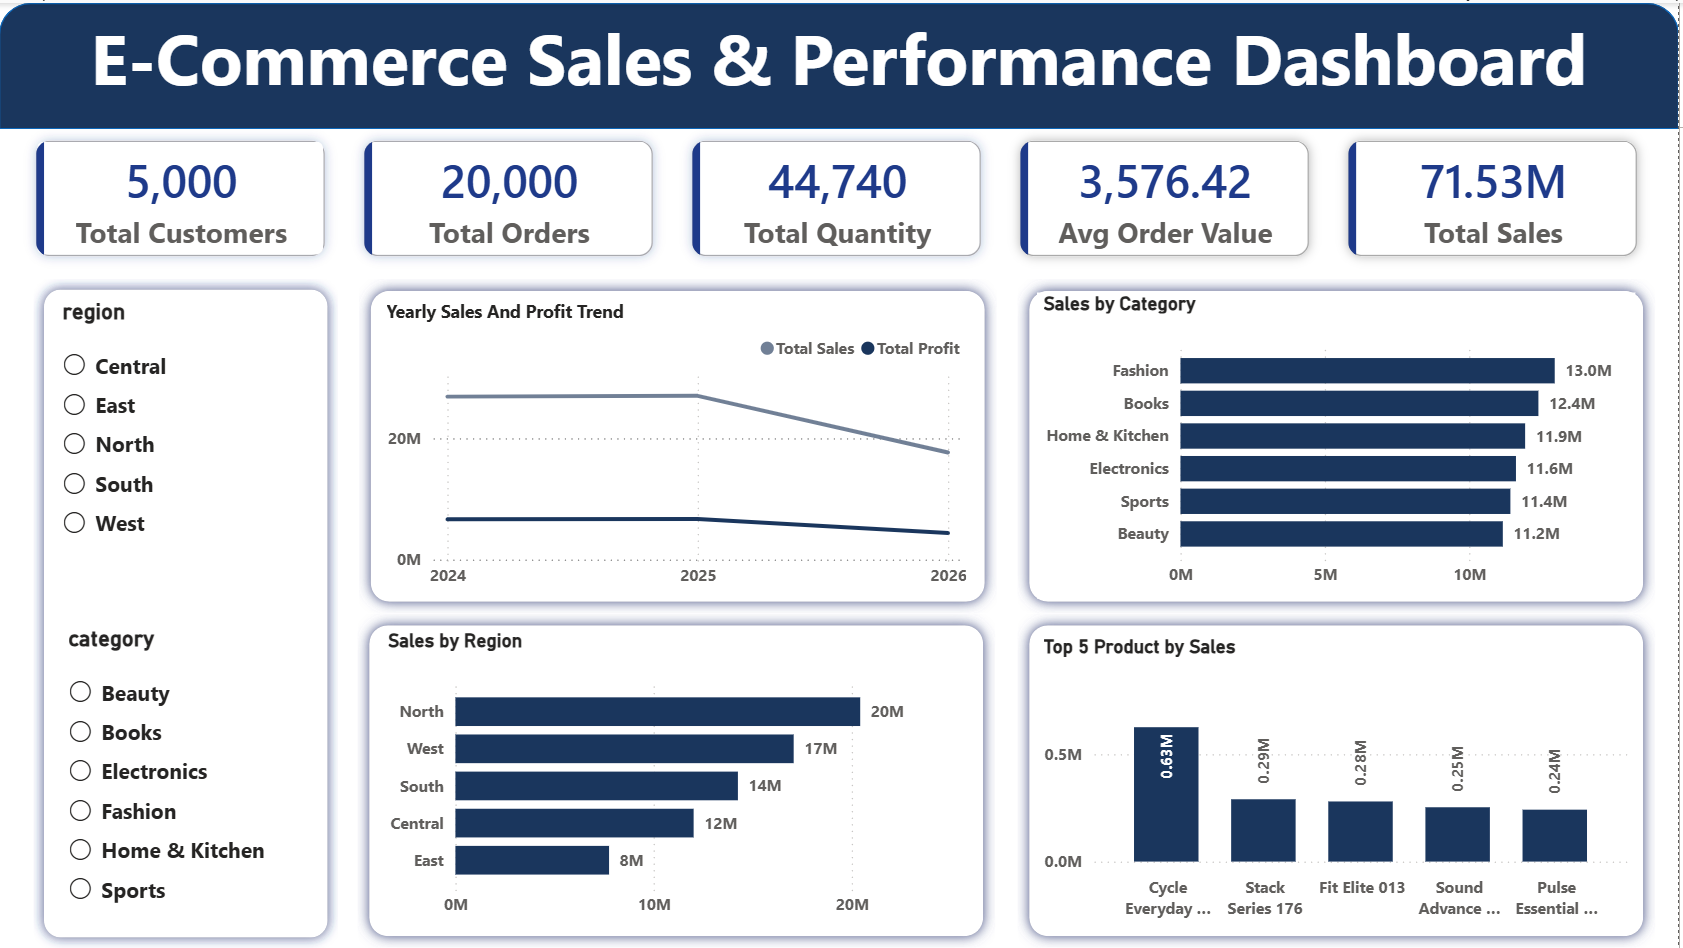

The page's visual inventory and layout, read from the dashboard file:
{"tool":"powerbi","page":{"name":"Executive Overview","canvas":[1280,720],"ordinal":0},"visuals":[{"type":"cardVisual","fields":{"Data":["_Measures.Total Customers","_Measures.Total Orders","_Measures.Total Quantity","_Measures.Average Order Value","_Measures.Total Sales"]},"box":[0,76.6,1280.4,144],"z":0},{"type":"shape","box":[0,0,1280.4,96.2],"z":1000},{"type":"textbox","box":[0,0,1280.4,76.6],"z":2000},{"type":"shape","box":[274.4,210.4,485.9,254.9],"z":3000},{"type":"lineChart","title":"Yearly Sales And Profit Trend","fields":{"Y":["_Measures.Total Sales","_Measures.Total Profit"],"Category":["DateTable.Year"]},"box":[290.4,225.2,451.6,228.6],"z":4000},{"type":"shape","box":[273.2,465.3,485.9,254.9],"z":5000},{"type":"shape","box":[776.2,210.4,485.9,254.9],"z":6000},{"type":"barChart","title":" Sales by Category","fields":{"Y":["_Measures.Total Sales"],"Category":["products.category"]},"box":[791.1,220.6,456.1,233.2],"z":7000},{"type":"barChart","title":"Sales by Region","fields":{"Y":["_Measures.Total Sales"],"Category":["locations.region"]},"box":[291.5,477.9,451.6,227.5],"z":8000},{"type":"shape","box":[776.2,465.3,485.9,254.9],"z":9000},{"type":"columnChart","title":"Top 5 Product by Sales","fields":{"Category":["products.product_name"],"Y":["_Measures.Total Sales"]},"box":[791.1,482.4,456.1,222.9],"z":10000},{"type":"shape","box":[26.3,210.4,232.1,509.9],"z":11000},{"type":"listSlicer","fields":{"Values":["products.category"]},"box":[48,474.4,194.3,230.9],"z":12000},{"type":"listSlicer","fields":{"Values":["locations.region"]},"box":[43.4,225.2,198.9,240.1],"z":13000}]}

Visuals, with their boxes in screenshot pixels (x1, y1, x2, y2), scaled from the page's 1280x720 canvas onto the 1683x948 screenshot:
cardVisual - _Measures.Total Customers x _Measures.Total Orders: bbox=(0, 101, 1682, 290)
shape: bbox=(0, 0, 1682, 127)
textbox: bbox=(0, 0, 1682, 101)
shape: bbox=(361, 277, 1000, 613)
"Yearly Sales And Profit Trend" lineChart: bbox=(382, 297, 976, 598)
shape: bbox=(359, 613, 998, 947)
shape: bbox=(1021, 277, 1659, 613)
" Sales by Category" barChart: bbox=(1040, 290, 1640, 598)
"Sales by Region" barChart: bbox=(383, 629, 977, 929)
shape: bbox=(1021, 613, 1659, 947)
"Top 5 Product by Sales" columnChart: bbox=(1040, 635, 1640, 929)
shape: bbox=(35, 277, 340, 947)
listSlicer - products.category: bbox=(63, 625, 319, 929)
listSlicer - locations.region: bbox=(57, 297, 319, 613)
